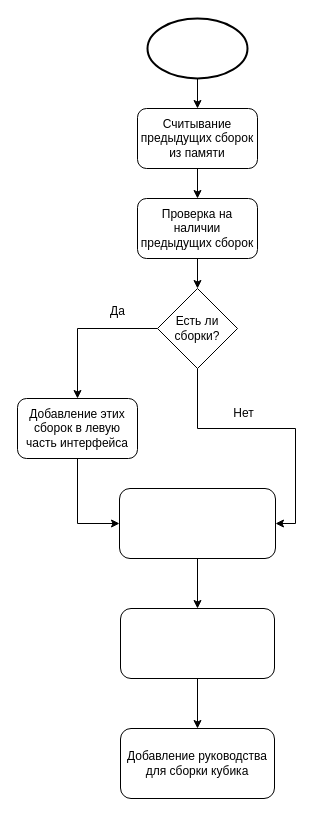
This 321x816 diagram has some shape labels left out. Here are the shapes that lost their labels. From the top down, the box of each, then its label:
(146, 17, 248, 79): Начало
(118, 488, 276, 558): Создание последовательности ходов для запутывания кубика
(120, 608, 274, 678): Отрисовка последовательности ходов для запутывания кубика
